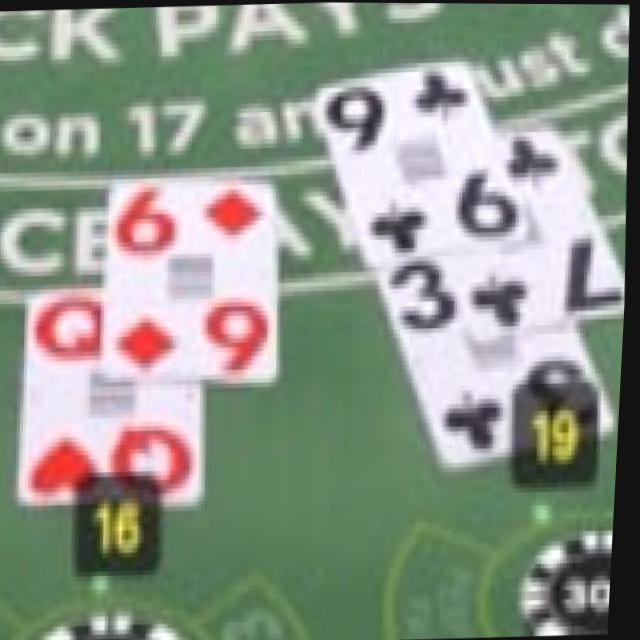Card-3: (382, 251, 620, 468)
Card-6: (107, 175, 279, 381)
Card-7: (458, 129, 627, 343)
Card-9: (316, 57, 535, 266)
Card-Q: (24, 289, 206, 506)
